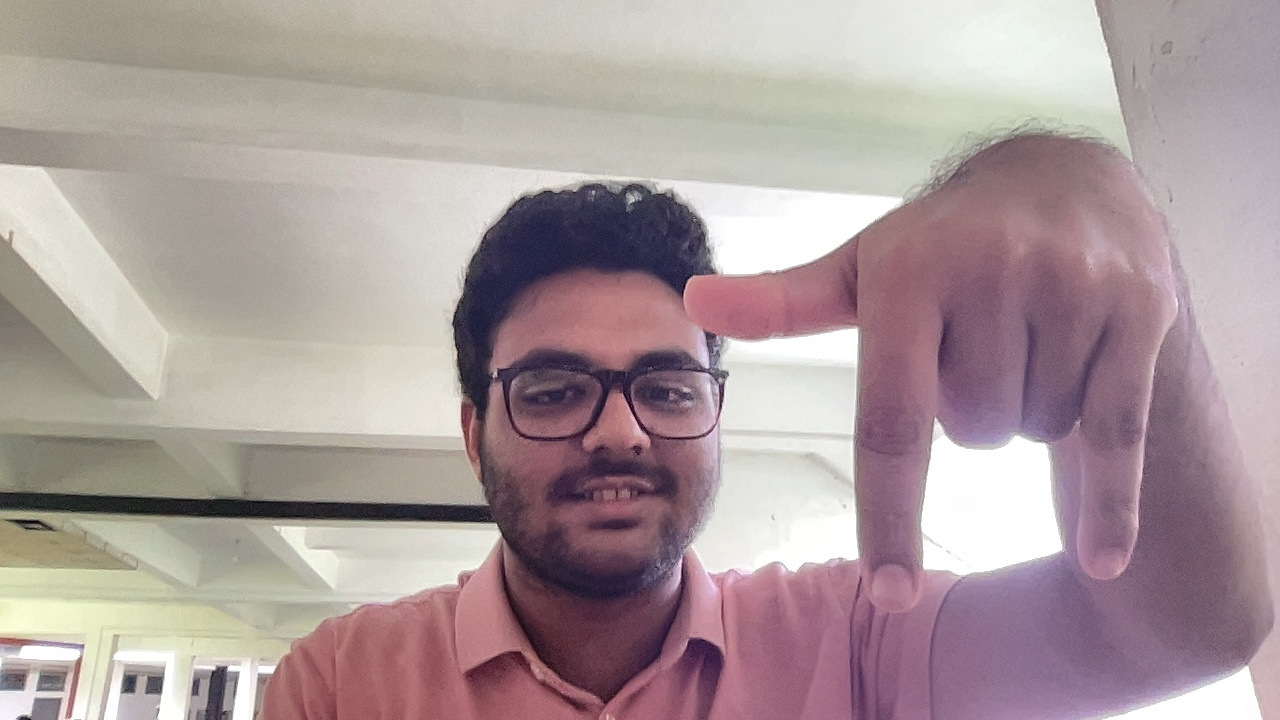yes: (679, 108, 1200, 617)
